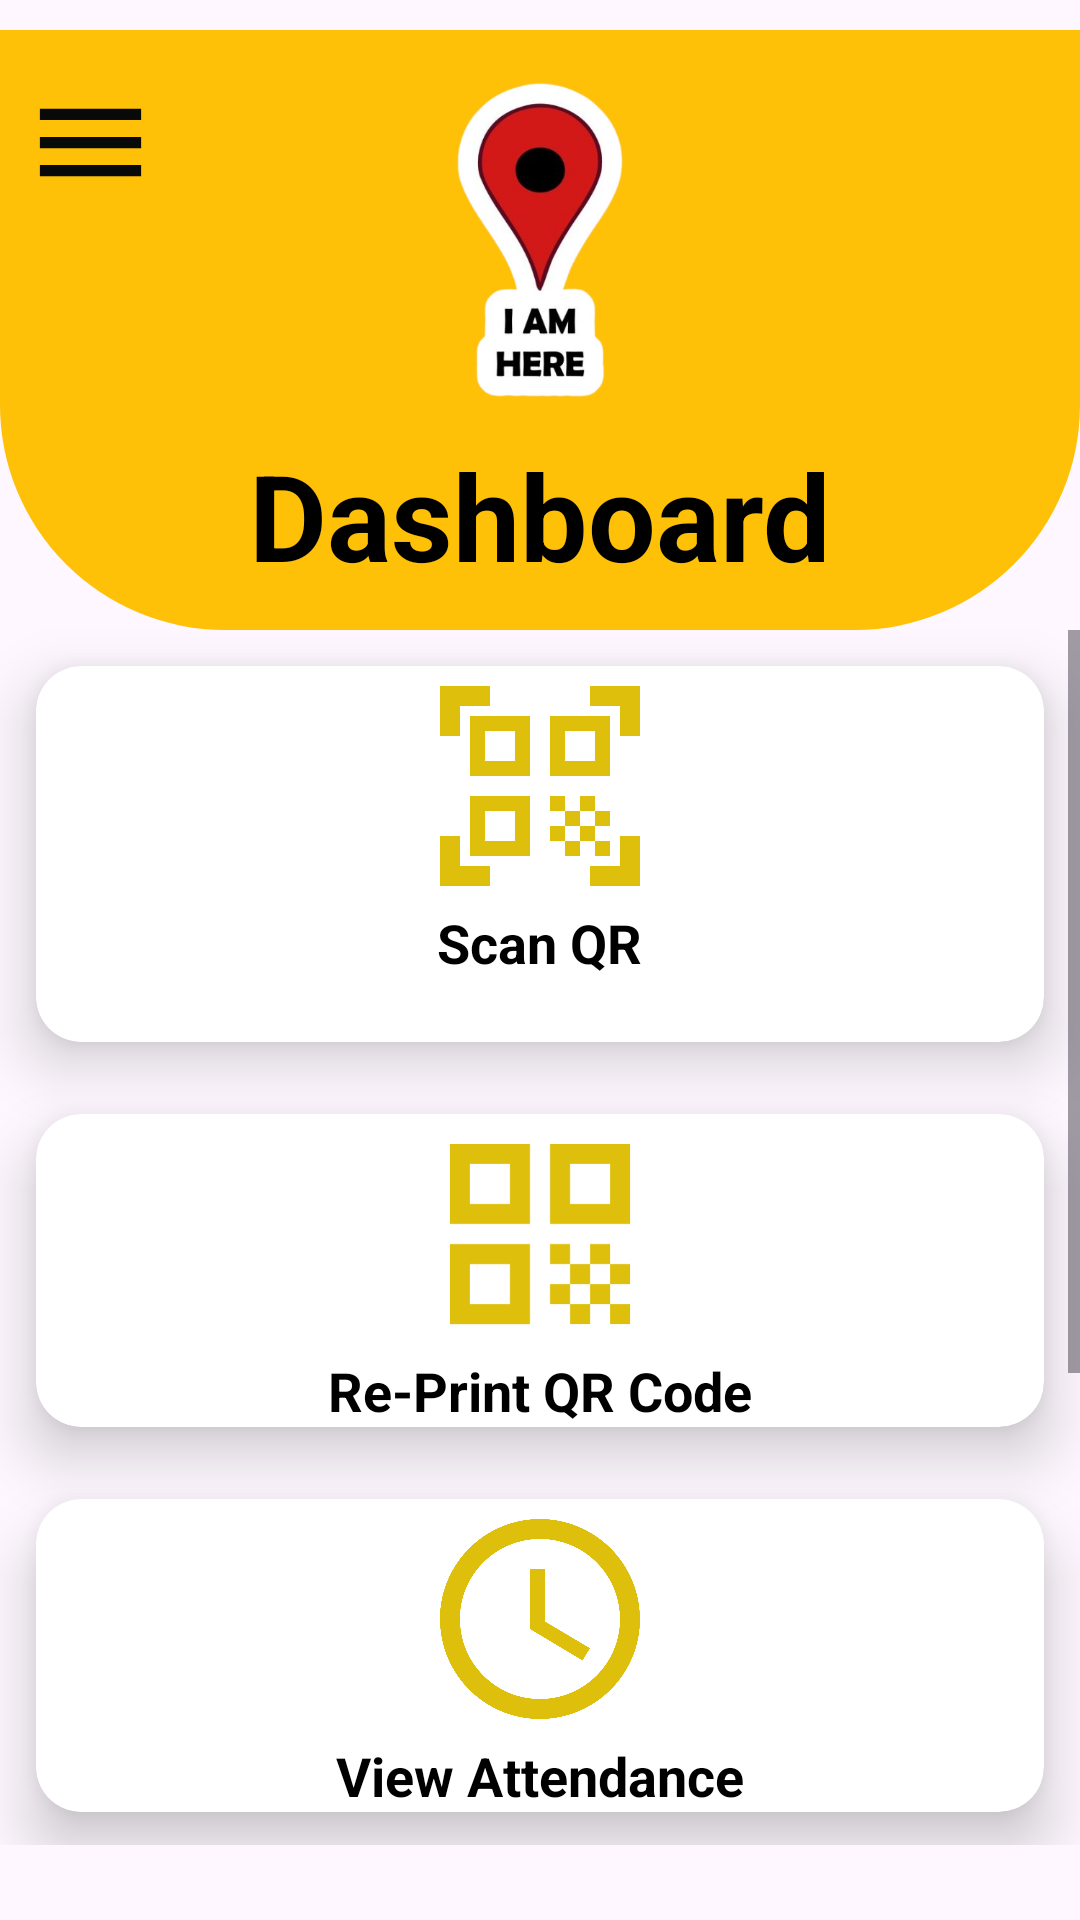

Where icons sit on this 1080×1920 app screen, as region(x1, y1, x2, y2):
Menu: region(39, 108, 142, 177)
